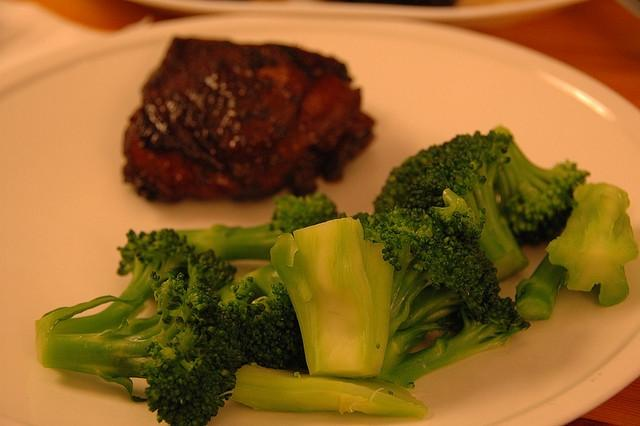broccoli: (353, 188, 528, 390), (36, 271, 246, 426), (373, 130, 529, 282), (270, 217, 395, 378), (493, 124, 591, 248), (175, 191, 347, 261), (545, 182, 634, 304), (218, 266, 308, 372), (514, 253, 568, 321)
